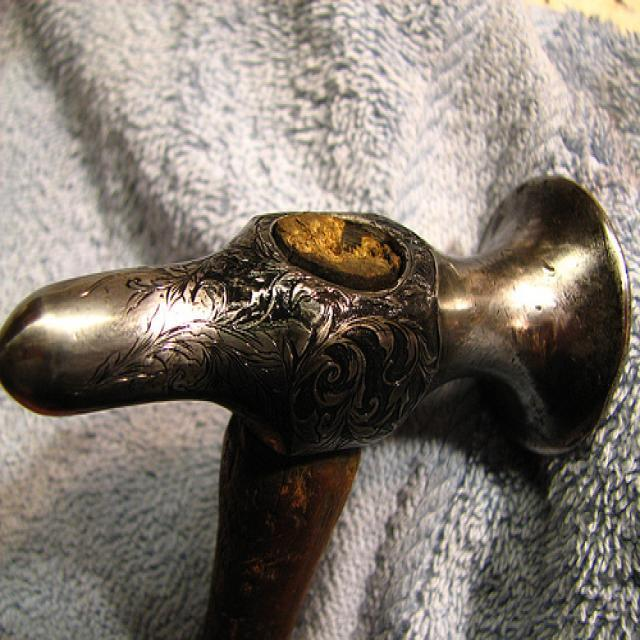hammer: (0, 156, 633, 627)
